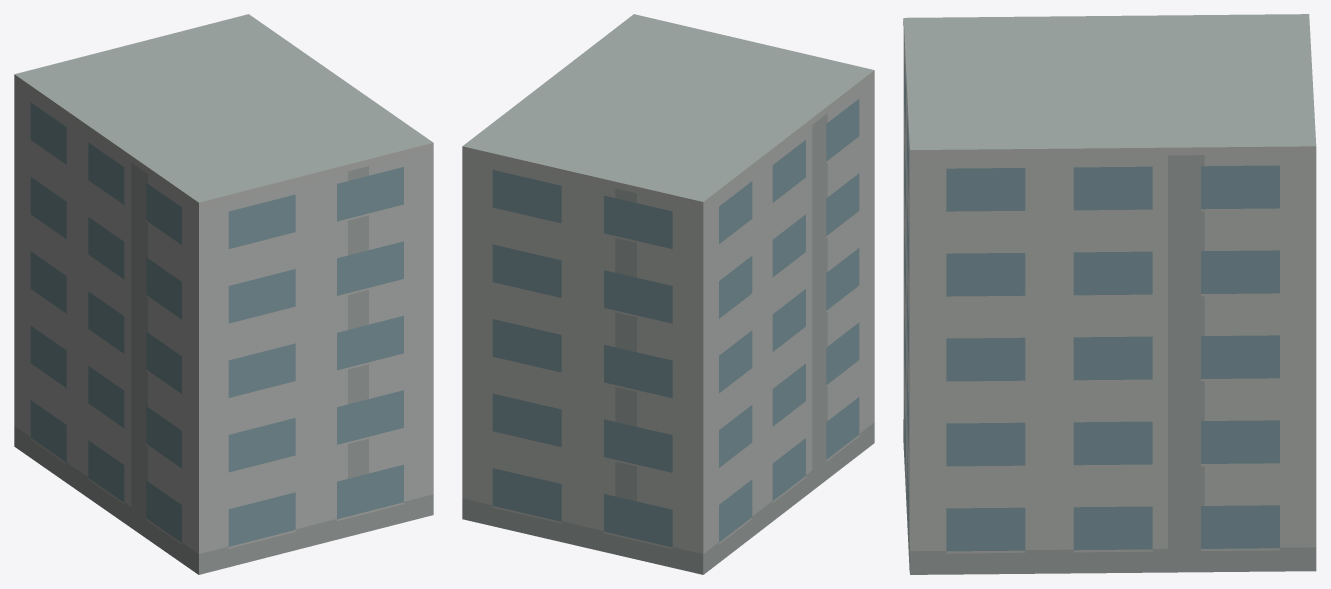
File: survey-upis-33013599.glb
3 views of the same model, side by side, from view 1: azimuth 30°, elevation 25°; view 2: azimuth 150°, elevation 25°; view 3: azimuth 270°, elevation 25° (orthographic). The views are drawn at different scales.
Parts seen in each view (by area): view 1: survey-upis-33013599.tmp; view 2: survey-upis-33013599.tmp; view 3: survey-upis-33013599.tmp.
Part boxes in pixels (x1,y1,x2,y2): survey-upis-33013599.tmp: [14, 14, 433, 574]; survey-upis-33013599.tmp: [462, 14, 874, 574]; survey-upis-33013599.tmp: [903, 14, 1316, 574].
Size of the model in its own units: 9.22 by 13.4 by 11.81.
